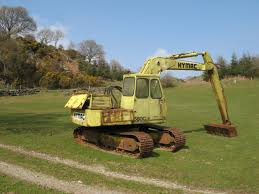excavator: (65, 50, 237, 158)
